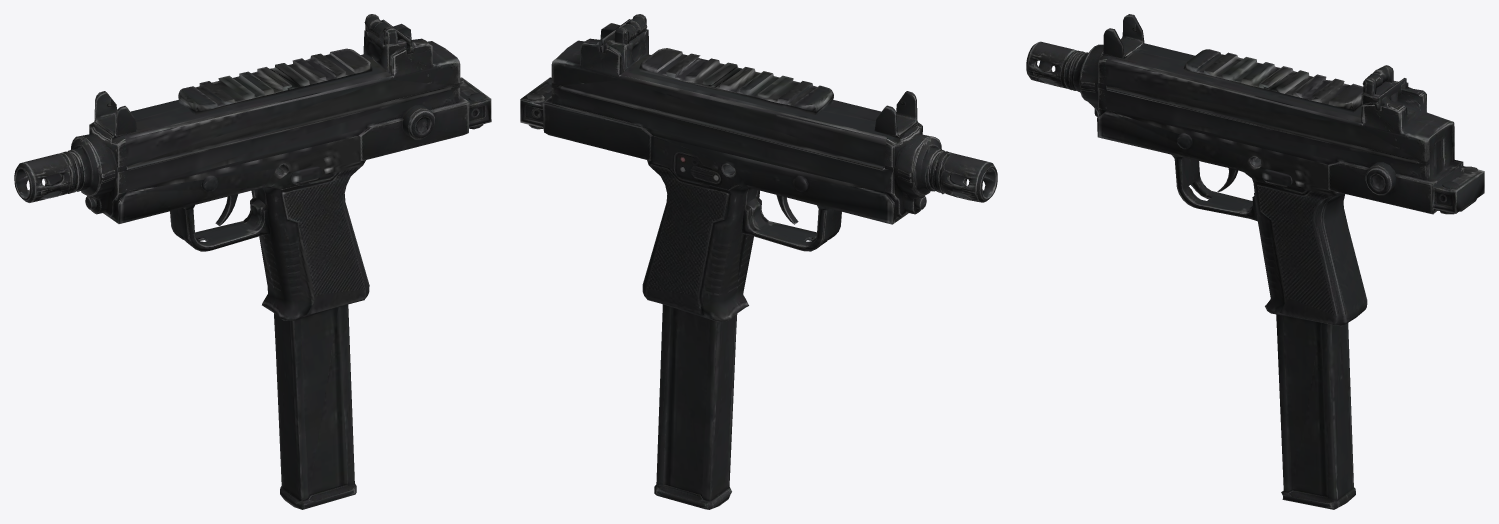
The model's file is arma_pistauto.glb.
The picture shows the model from 3 angles, left to right: view 1: azimuth 30°, elevation 25°; view 2: azimuth 150°, elevation 25°; view 3: azimuth 330°, elevation 25°; orthographic projection. The views are drawn at different scales.
Bounding box in the file's own units: 0.9536 × 0.9214 × 0.1382.
1 material, 1 textured.
